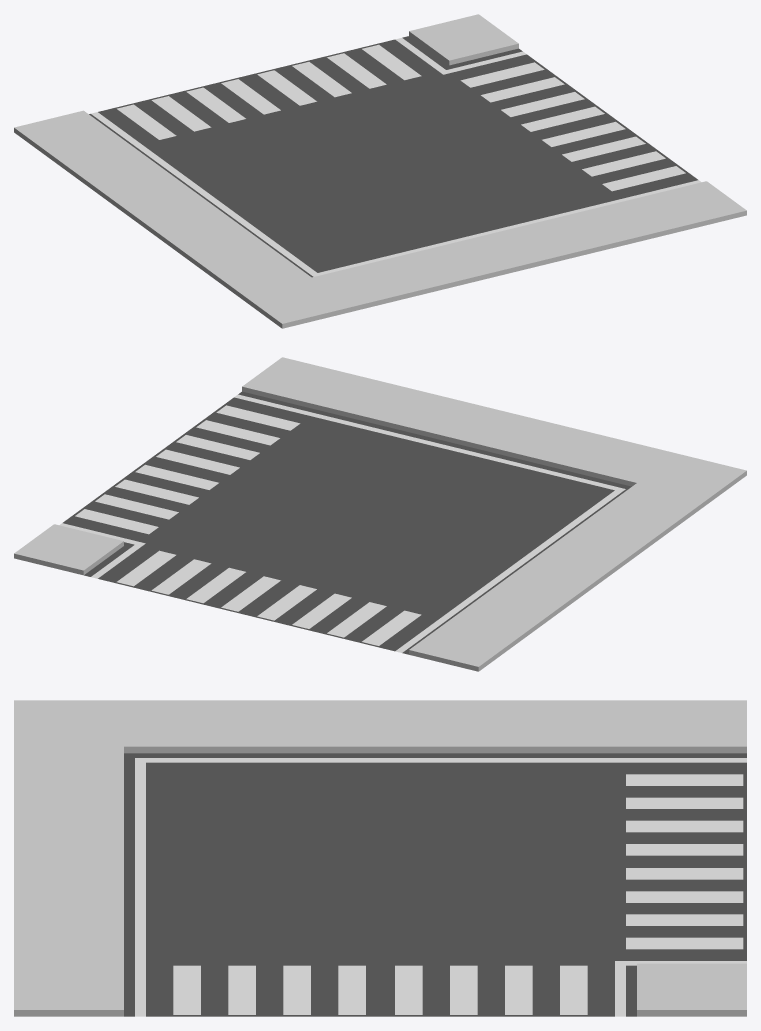
File: SPW_Urban_Road 2way_Corner_01.gltf
The picture shows the model from 3 angles, top to bottom: view 1: azimuth 30°, elevation 25°; view 2: azimuth 150°, elevation 25°; view 3: azimuth 270°, elevation 25°; orthographic projection. The views are drawn at different scales.
Visible parts, largest first — view 1: SPW_Urban_Road_2way_Corner_01; view 2: SPW_Urban_Road_2way_Corner_01; view 3: SPW_Urban_Road_2way_Corner_01.
Part boxes in pixels (bbox=[...]): SPW_Urban_Road_2way_Corner_01: bbox=[14, 14, 746, 328]; SPW_Urban_Road_2way_Corner_01: bbox=[14, 357, 746, 671]; SPW_Urban_Road_2way_Corner_01: bbox=[14, 700, 746, 1016].
Bounding box in the file's own units: 787 × 7.87 × 787.
1 material, 1 textured.
